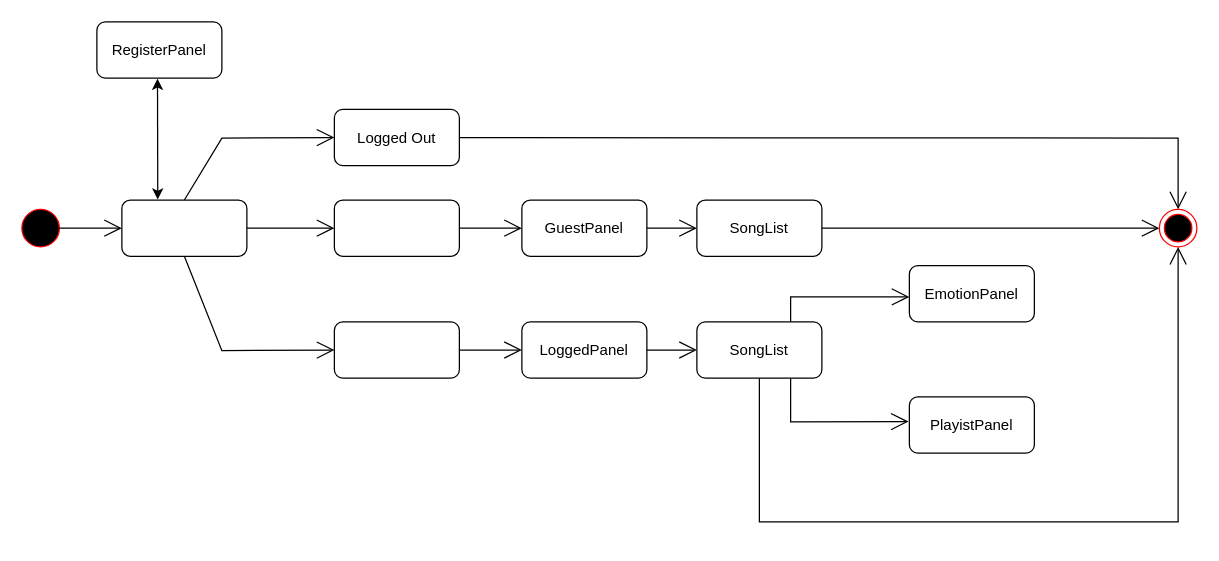
This 1219x561 diagram has some shape labels left out. The shapes that lost their labels are listed below. From the top down, each one's box as (x1, y1, x2, y2) in pixels, then its label:
(121, 199, 247, 256): Login
(333, 199, 459, 256): GuestLogin
(333, 321, 459, 378): Logged In
